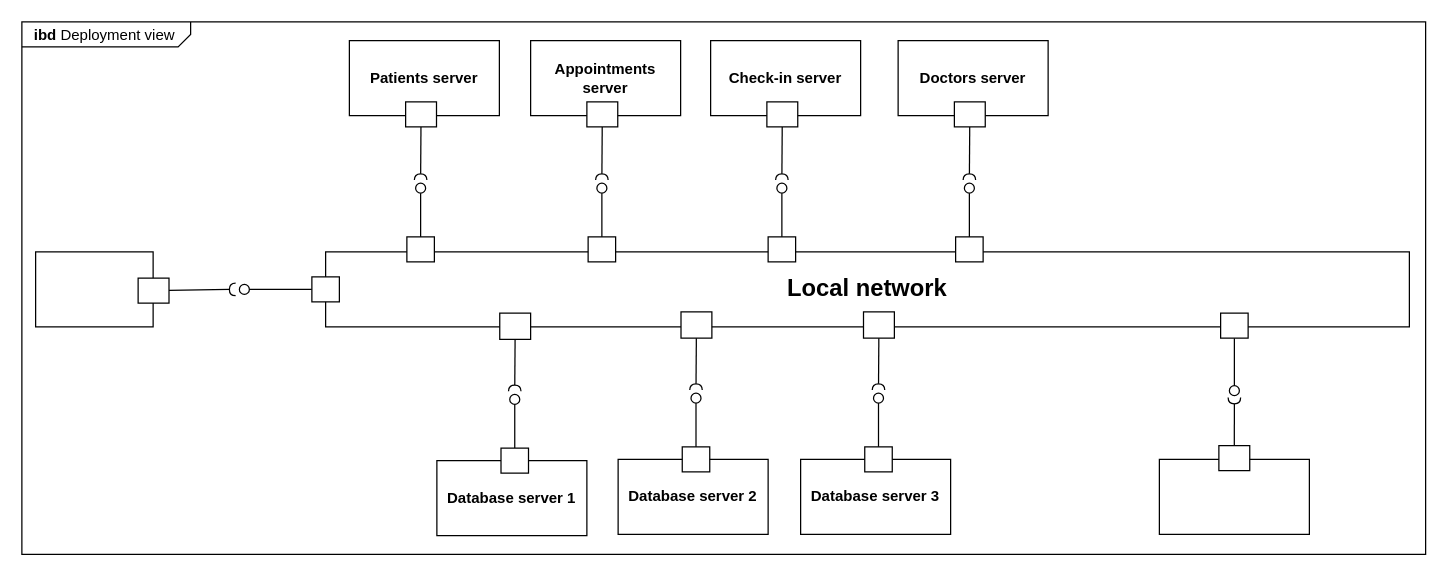
The diagram is 1448 pixels wide and 576 high, and some of its shapes have lost their labels. The centre of each missing label's shape, as x and y in pixels:
"Check-in machine" belongs at [1233,496].
"Client PC" belongs at [93,289].
